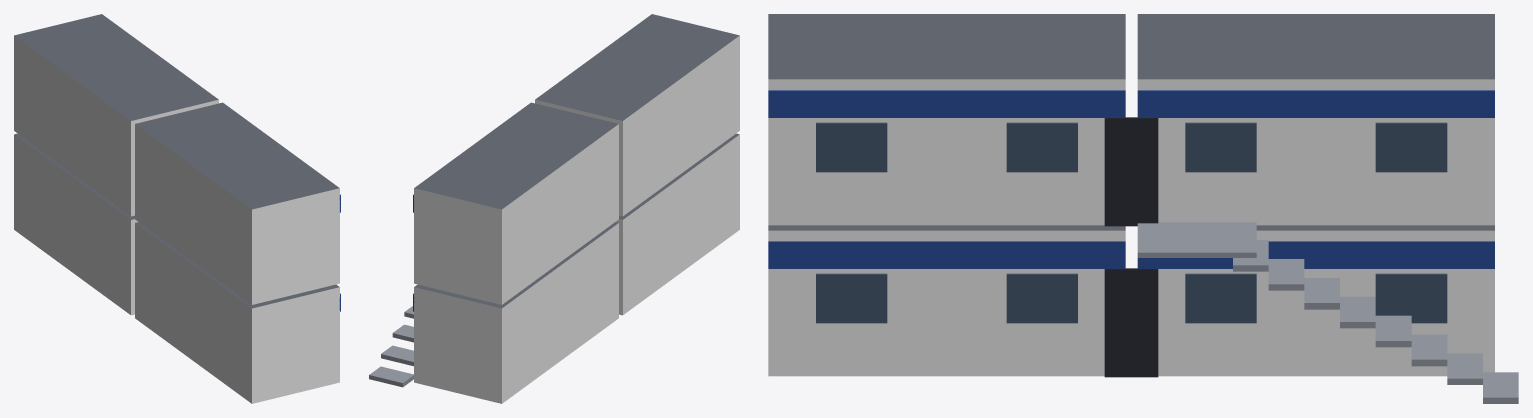
Rendered from contenedor_faena.obj.
3 views of the same model, side by side, from view 1: azimuth 30°, elevation 25°; view 2: azimuth 150°, elevation 25°; view 3: azimuth 270°, elevation 25° (orthographic). The views are drawn at different scales.
Parts seen in each view (by area): view 1: contenedor_faena; view 2: contenedor_faena; view 3: contenedor_faena.
Part boxes in pixels (left/top/right/bottom): contenedor_faena: left=14, top=14, right=340, bottom=403; contenedor_faena: left=369, top=14, right=739, bottom=403; contenedor_faena: left=768, top=14, right=1518, bottom=403.
Size of the model in its own units: 3.8 by 5.5 by 12.6.
